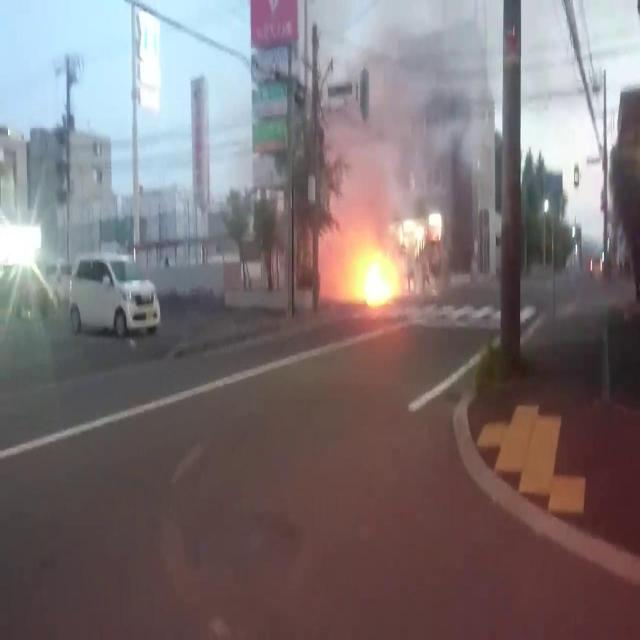fire: (348, 226, 405, 311)
